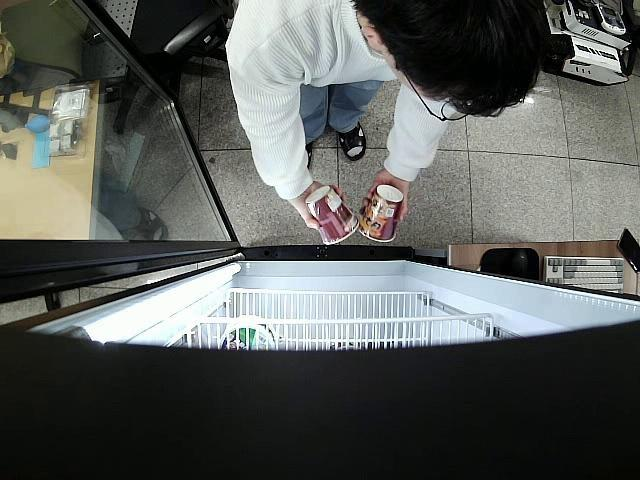06_nuguri_S: (304, 186, 358, 245), (359, 184, 404, 242)
